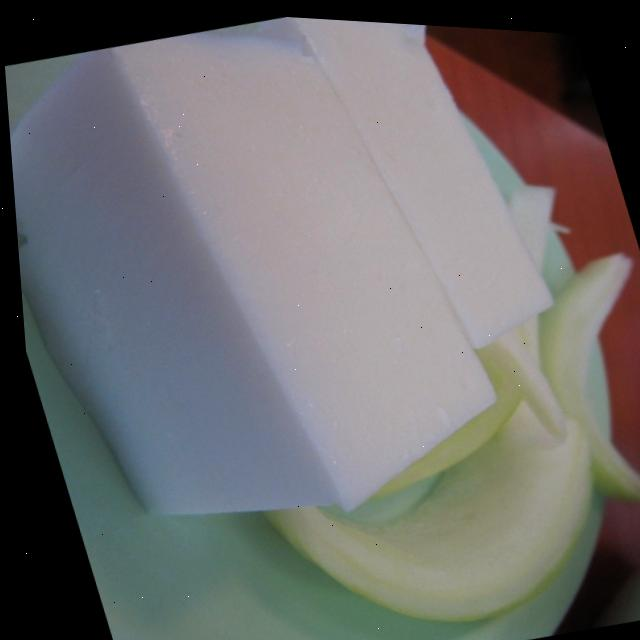蛋糕甜品: (0, 0, 636, 595)
